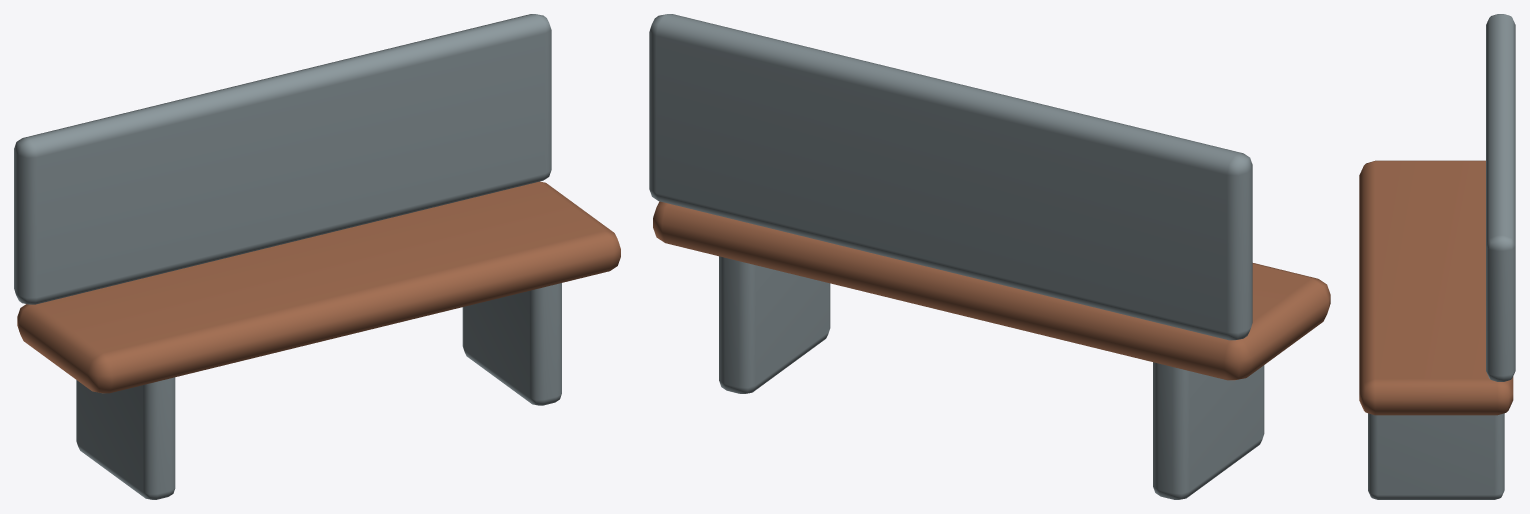
Rendered from bench.glb.
3 views of the same model, side by side, from view 1: azimuth 30°, elevation 25°; view 2: azimuth 150°, elevation 25°; view 3: azimuth 270°, elevation 25° (orthographic). The views are drawn at different scales.
Visible parts, largest first — view 1: NC brushed titanium.011, NC oxidized copper.004; view 2: NC brushed titanium.011, NC oxidized copper.004; view 3: NC oxidized copper.004, NC brushed titanium.011.
Boxes of the visible parts, <box> form: NC brushed titanium.011: <box>14,14,561,499</box>; NC oxidized copper.004: <box>17,181,620,393</box>; NC brushed titanium.011: <box>649,14,1264,499</box>; NC oxidized copper.004: <box>653,201,1330,380</box>; NC oxidized copper.004: <box>1359,160,1513,415</box>; NC brushed titanium.011: <box>1368,14,1515,499</box>.
Size of the model in its own units: 2.2 by 1.28 by 0.63.
